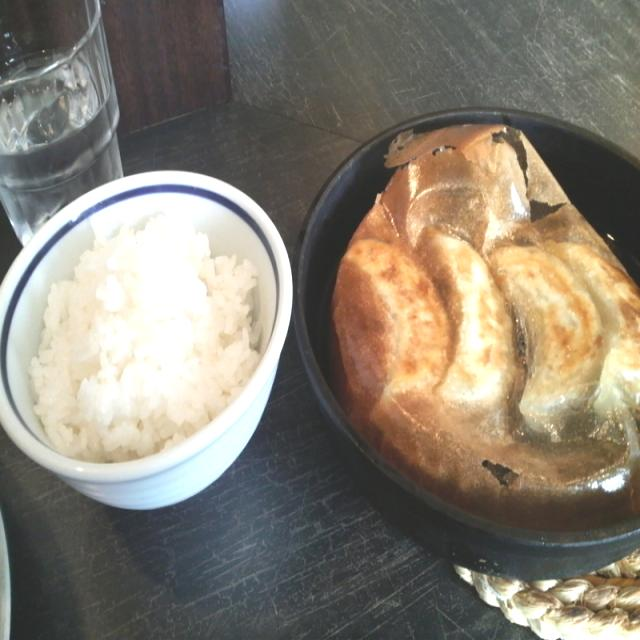rice: (42, 225, 236, 444)
